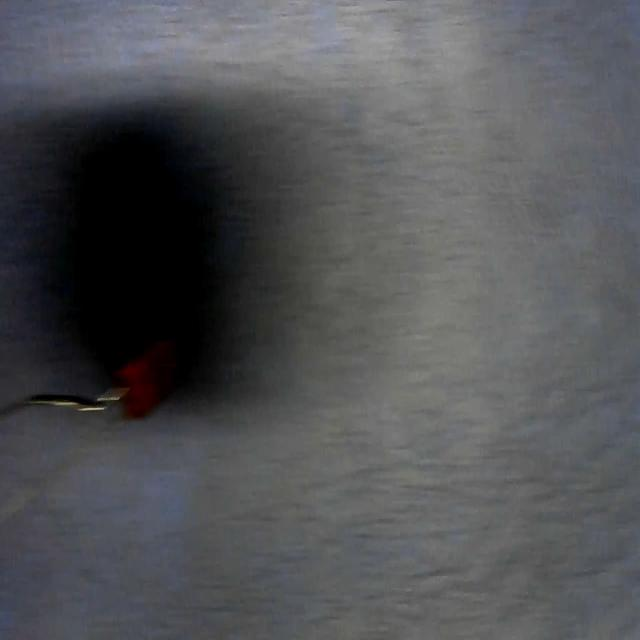LED: (4, 346, 180, 516)
